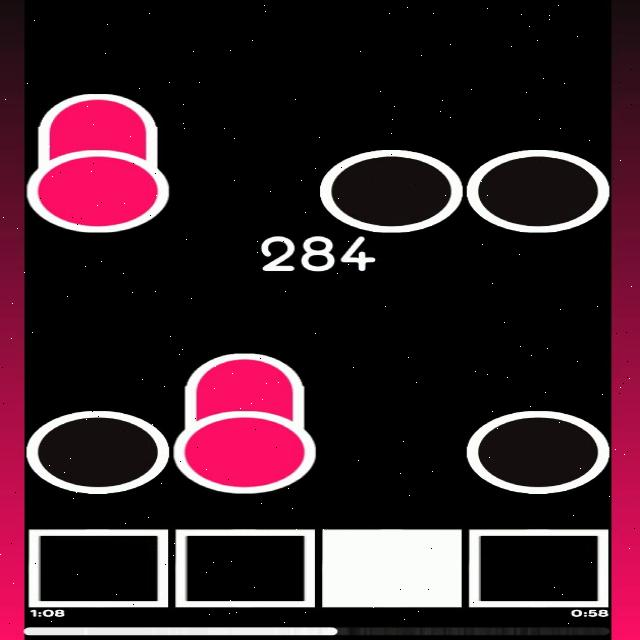end_hold: (32, 88, 163, 130), (182, 350, 307, 390)
note: (468, 410, 612, 496), (319, 149, 464, 232), (466, 150, 610, 232), (26, 412, 169, 494)
start_hold: (175, 401, 316, 494), (27, 144, 172, 233)
